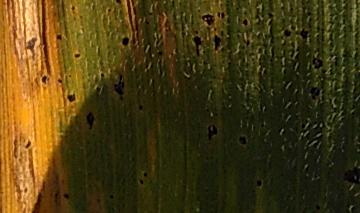tarspot: (112, 74, 126, 101), (342, 167, 360, 186), (191, 35, 202, 58), (85, 110, 96, 131), (200, 13, 215, 27), (206, 124, 218, 141), (307, 86, 321, 100), (310, 57, 324, 71), (236, 133, 249, 147), (212, 33, 222, 51), (265, 11, 275, 27), (65, 91, 77, 103), (298, 27, 308, 39), (282, 27, 291, 39), (40, 74, 49, 86), (120, 36, 130, 46), (94, 85, 103, 96), (254, 178, 263, 188), (60, 192, 70, 201), (241, 17, 249, 28), (52, 192, 59, 204), (54, 32, 63, 41), (24, 140, 32, 150), (347, 205, 356, 213), (56, 77, 64, 85), (143, 18, 151, 26), (137, 103, 144, 112), (138, 177, 145, 186), (314, 203, 321, 211), (108, 193, 115, 201), (300, 123, 307, 131), (256, 47, 263, 55), (245, 37, 250, 48), (73, 53, 82, 59), (220, 10, 225, 20), (156, 50, 163, 57), (146, 11, 154, 17), (142, 171, 150, 177), (218, 29, 224, 36), (193, 29, 199, 36), (99, 72, 105, 78), (106, 7, 112, 13), (216, 10, 220, 19), (259, 122, 265, 128), (242, 10, 248, 16), (95, 197, 100, 204), (114, 1, 122, 5), (70, 5, 75, 11), (220, 46, 225, 52), (212, 26, 217, 32), (234, 6, 240, 11)
